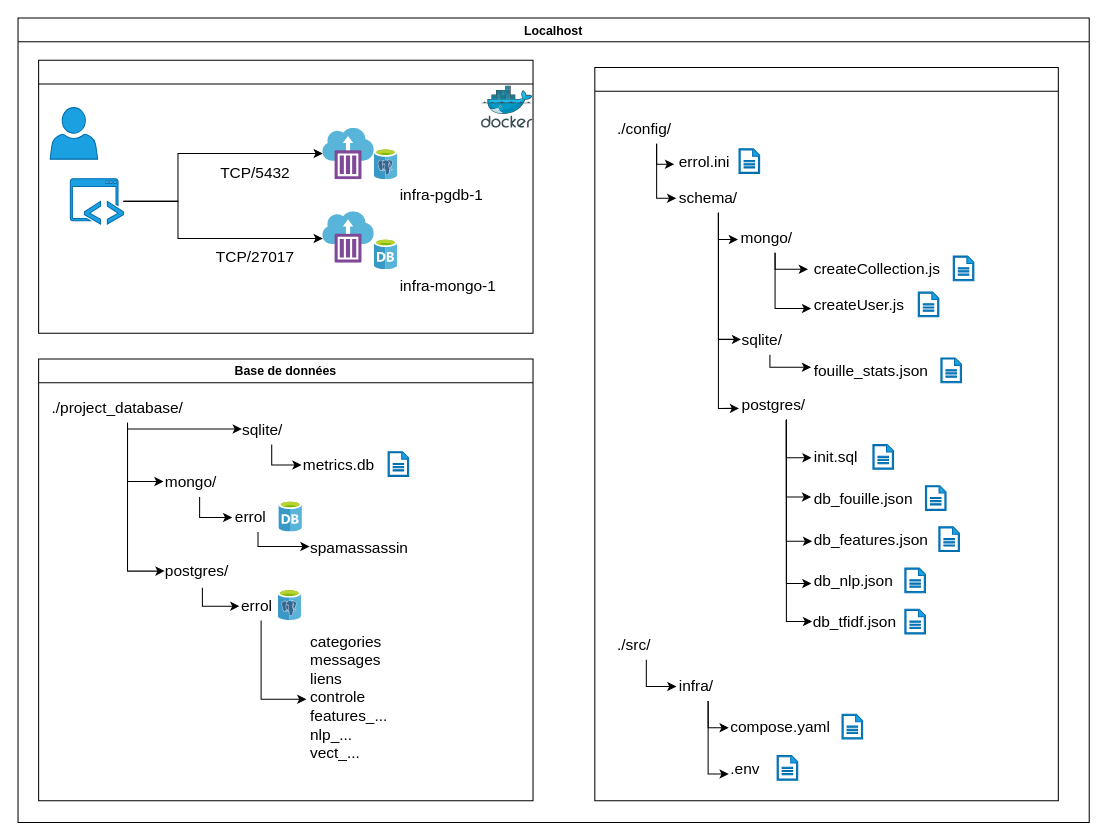
This 1107x840 diagram has some shape labels left out. The box of each missing label's shape, as (x1, y1, x2, y2) in pixels:
Architecture: (594, 66, 1058, 801)
d ocker.service: (38, 59, 533, 333)
